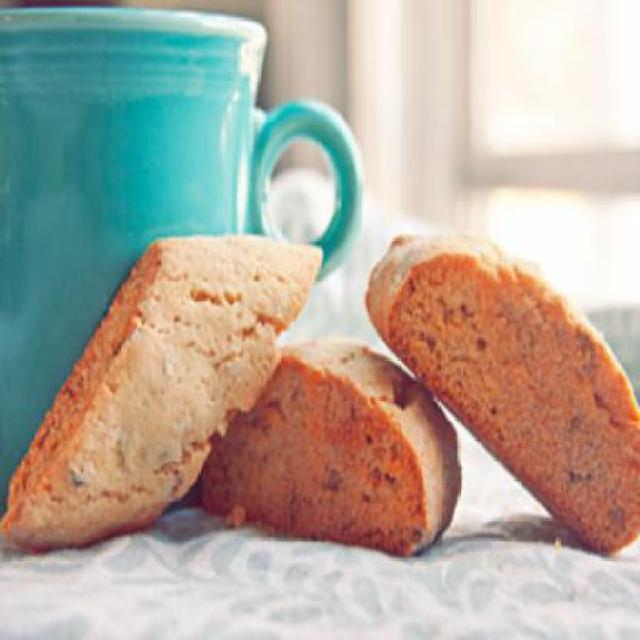Cookie: (0, 240, 322, 554), (364, 224, 638, 558), (196, 336, 461, 555)
